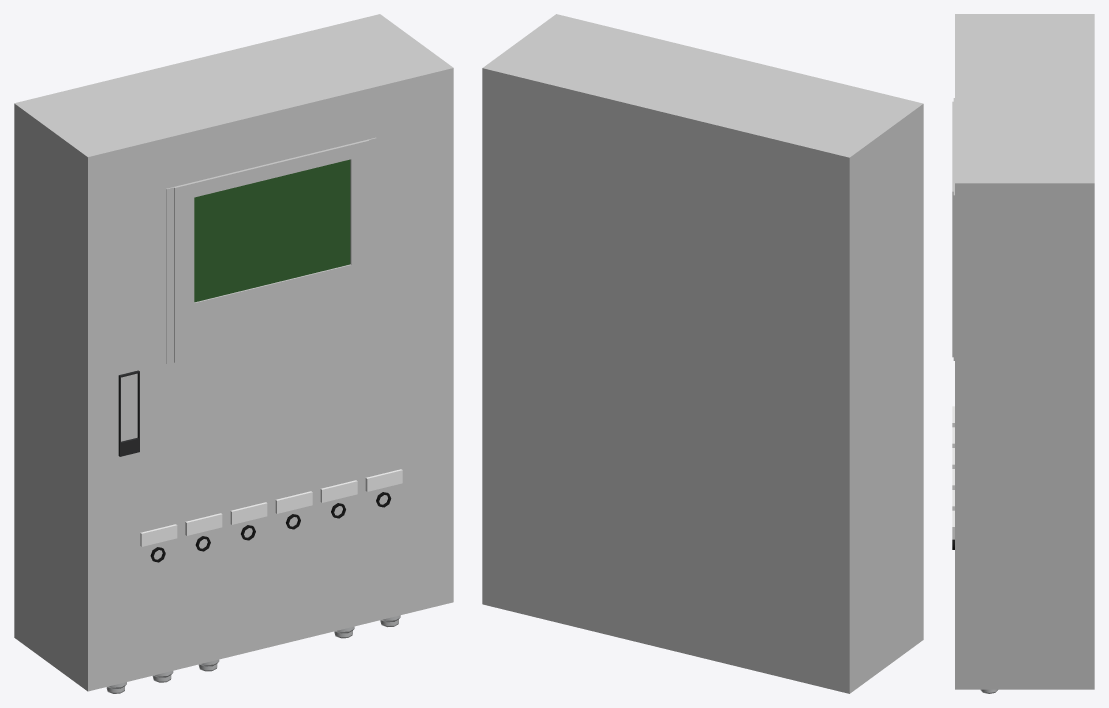
Rendered from 21_啟動電池組.glb.
3 renders of one model, left to right at view 1: azimuth 30°, elevation 25°; view 2: azimuth 150°, elevation 25°; view 3: azimuth 270°, elevation 25°, orthographic. The views are drawn at different scales.
Visible parts, largest first — view 1: 立方體.007; view 2: 立方體.007; view 3: 立方體.007.
Boxes of the visible parts, box(x1,y1,x2,y2) form: 立方體.007: box(14, 14, 453, 693); 立方體.007: box(482, 14, 923, 693); 立方體.007: box(952, 14, 1094, 693).
Bounding box in the file's own units: 0.6036 × 0.8789 × 0.2146.
